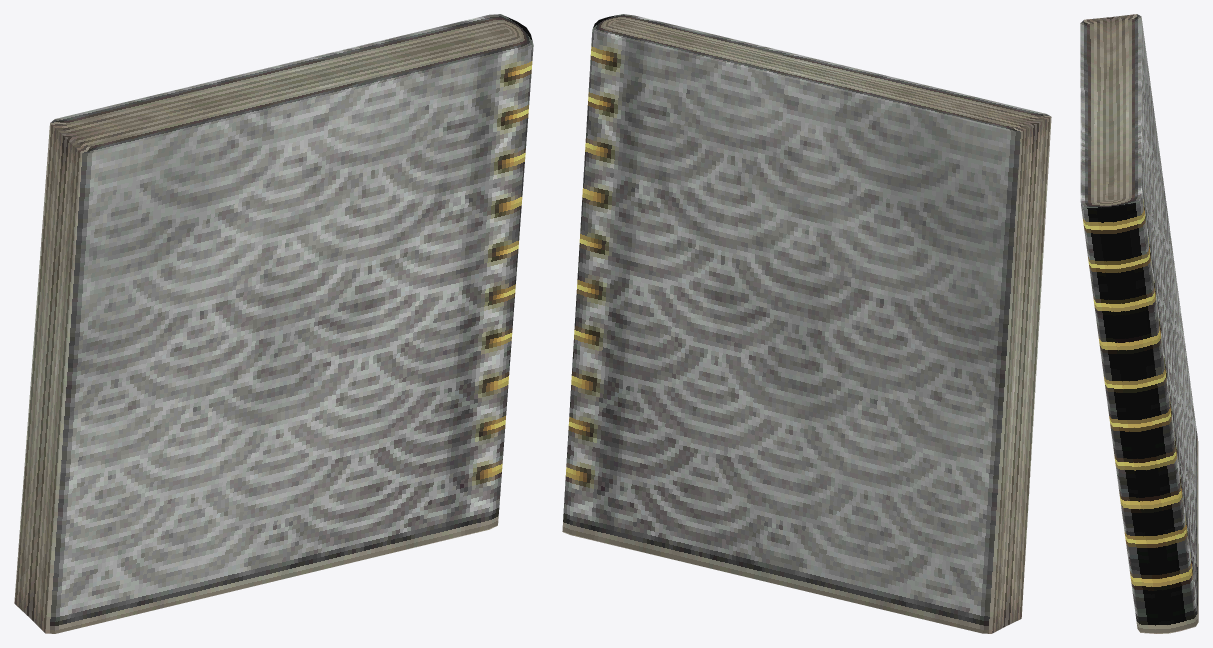
File: ps2_save-icons_fatalframe2-albumdata-slot1white.glb
The picture shows the model from 3 angles, left to right: view 1: azimuth 30°, elevation 25°; view 2: azimuth 150°, elevation 25°; view 3: azimuth 270°, elevation 25°; orthographic projection. The views are drawn at different scales.
Parts seen in each view (by area): view 1: zero-b-album0.ico; view 2: zero-b-album0.ico; view 3: zero-b-album0.ico.
Part boxes in pixels (left/top/right/bottom): zero-b-album0.ico: left=14, top=14, right=533, bottom=633; zero-b-album0.ico: left=562, top=14, right=1051, bottom=633; zero-b-album0.ico: left=1080, top=14, right=1198, bottom=633.
Bounding box in the file's own units: 3.58 × 3.79 × 0.9373.
1 material, 1 textured.
